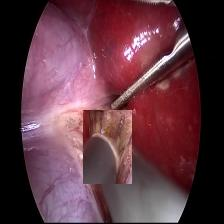Grasper: (109, 0, 199, 112)
Hook: (84, 111, 132, 184)
